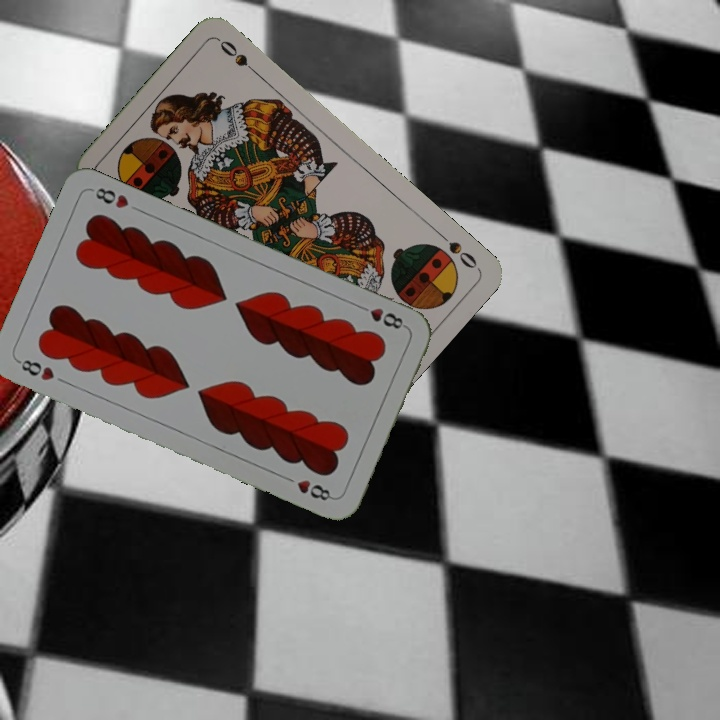H8: (353, 300, 409, 332), (13, 355, 57, 384)
SO: (433, 227, 480, 272)
